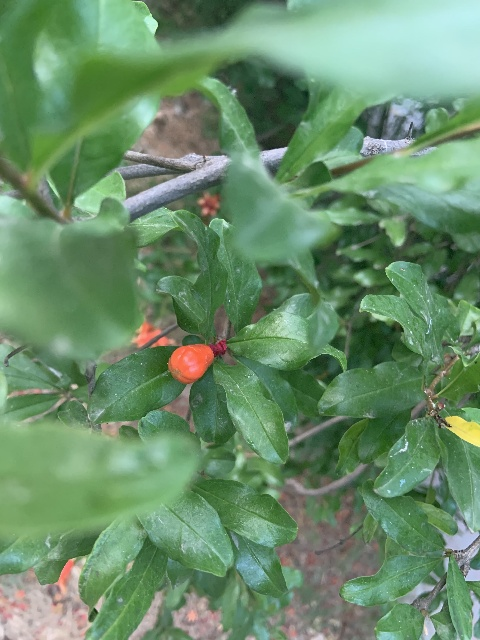bud: (167, 343, 213, 384)
